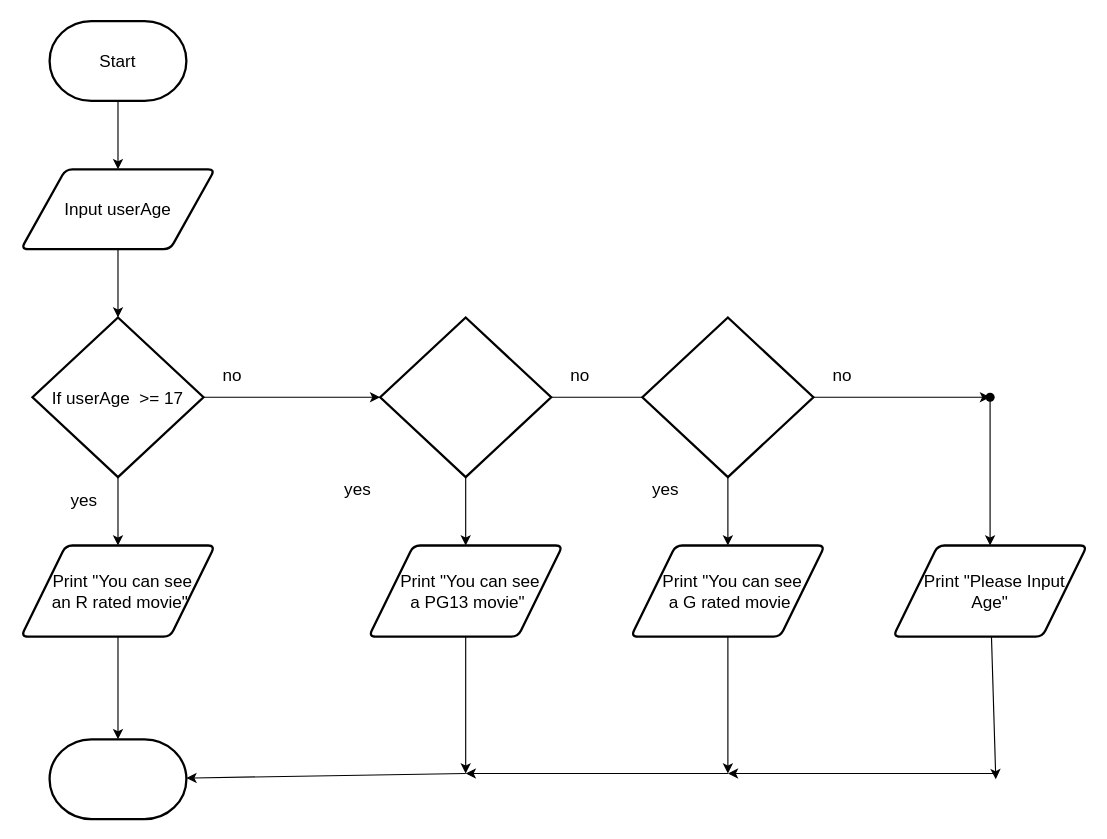
The diagram is 1107 pixels wide and 839 high, and some of its shapes have lost their labels. The shapes that lost their labels are listed below. From the top down, each one's centre as x and y in pixels, then its label:
[465,397]: elseIf userAge >= 13
[727,397]: elseIf userAge <13
[117,779]: Stop
